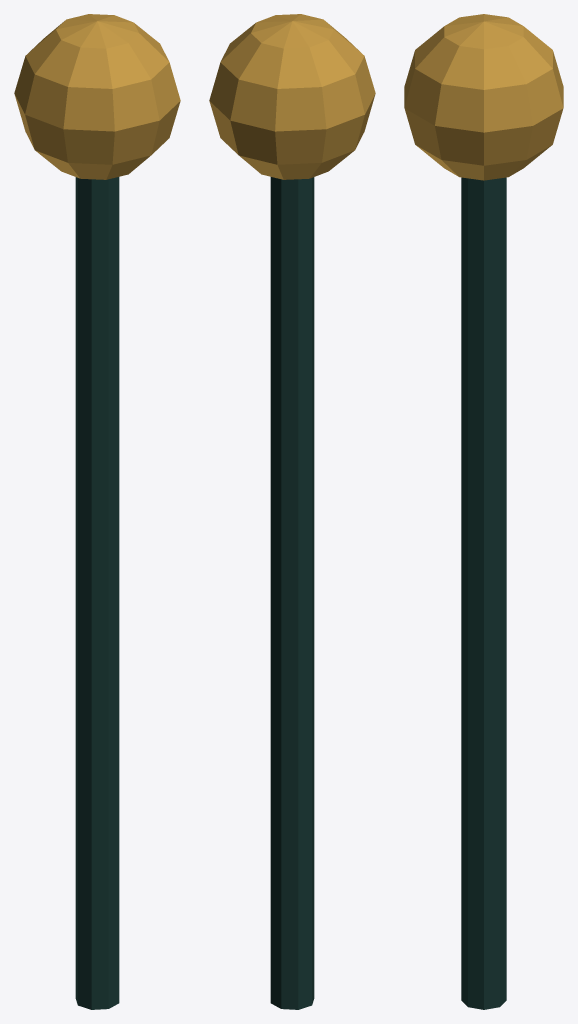
File: prop_street_light.glb
3 renders of one model, left to right at view 1: azimuth 30°, elevation 25°; view 2: azimuth 150°, elevation 25°; view 3: azimuth 270°, elevation 25°, orthographic.
Parts seen in each view (by area): view 1: rough; view 2: rough; view 3: rough.
Boxes of the visible parts, left/top/right/bottom form: rough: left=14, top=14, right=180, bottom=1009; rough: left=209, top=14, right=375, bottom=1009; rough: left=404, top=14, right=563, bottom=1009.
Bounding box in the file's own units: 0.48 × 3.1 × 0.4565.
